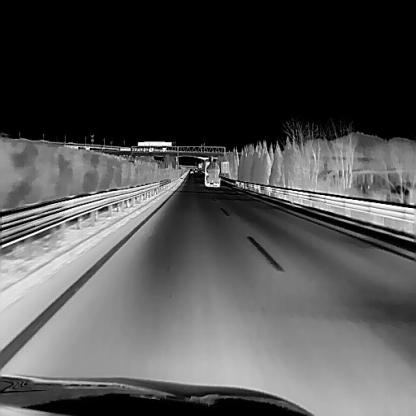truck: (204, 161, 220, 186)
